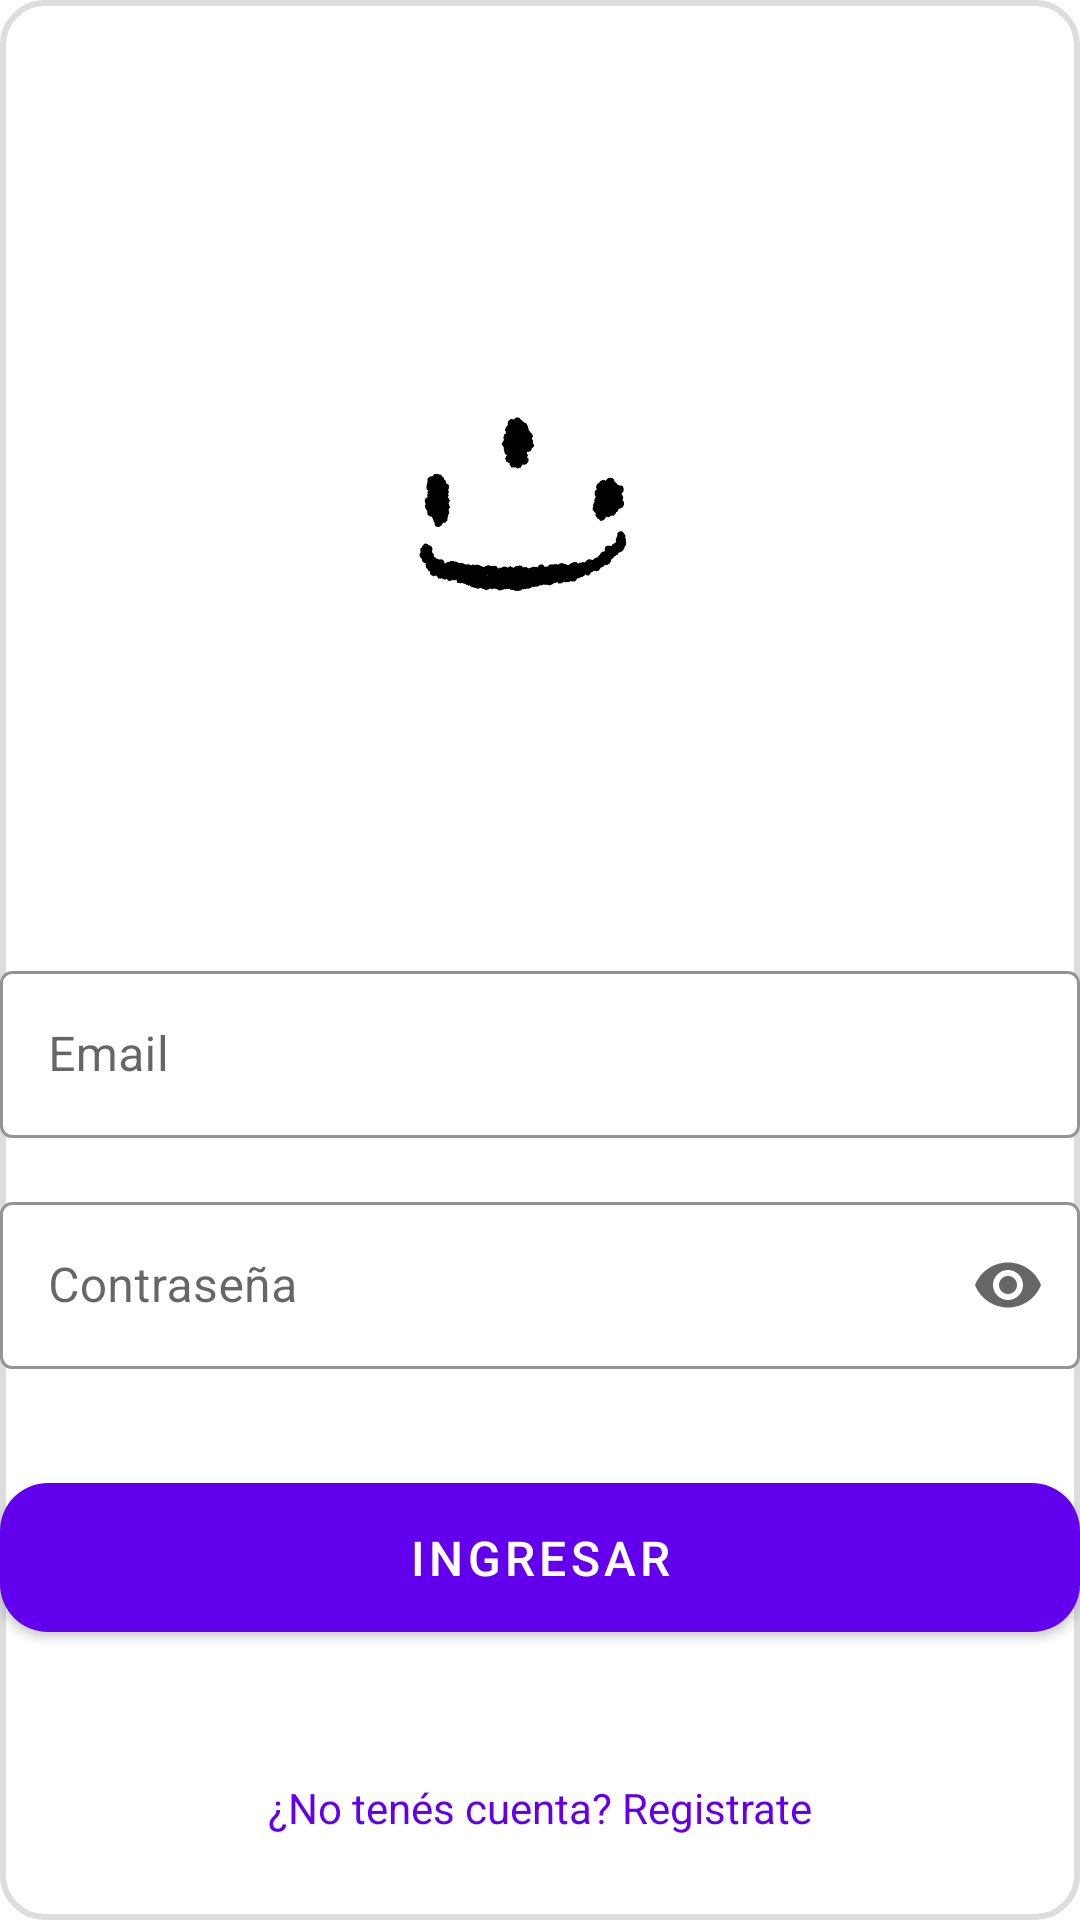

Locate icon controls on the screen. Image size 1080*1920, boxes as (x1, y1, x2, y2).
cara: (419, 417, 627, 591)
